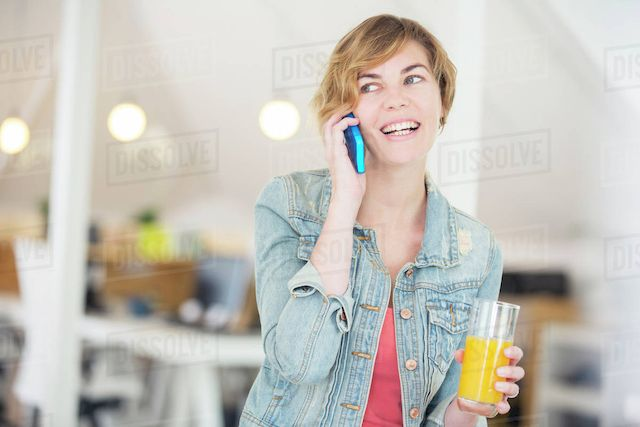phone: (322, 100, 371, 176)
talk: (320, 58, 441, 197)
